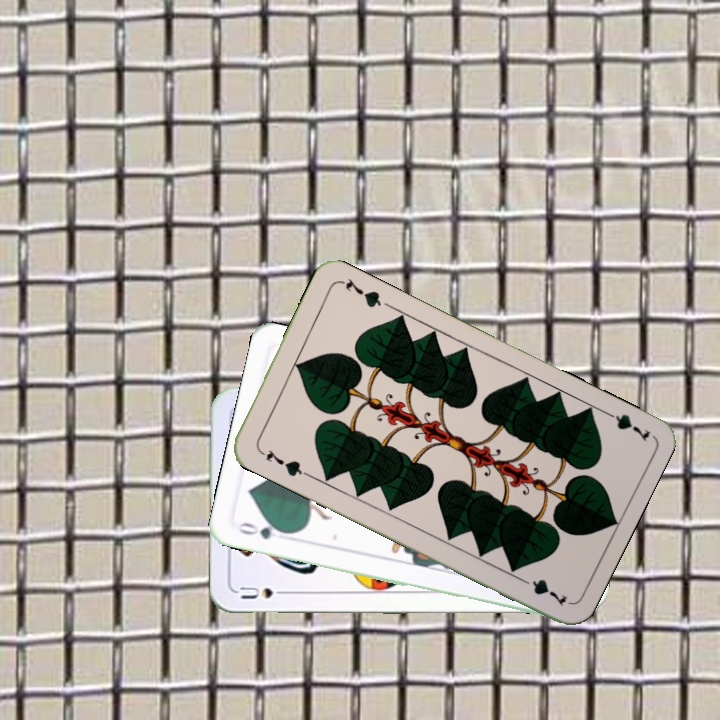G7: (597, 405, 653, 445), (254, 444, 309, 480)
GO: (235, 518, 293, 542)
SU: (236, 582, 293, 602)
